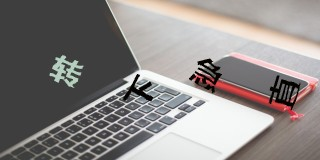下: (123, 72, 154, 102)
急: (188, 57, 223, 93)
直: (267, 75, 301, 111)
转: (49, 53, 83, 88)
